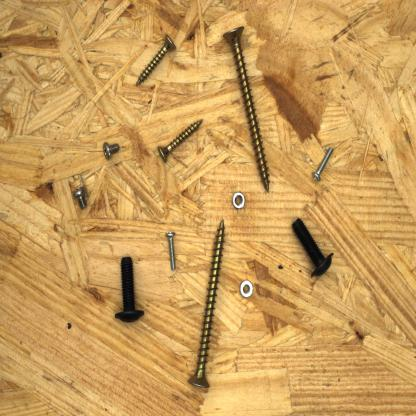screw: (222, 22, 272, 196), (185, 214, 228, 390), (290, 213, 336, 283), (110, 253, 150, 326), (133, 31, 180, 90), (156, 115, 205, 166), (310, 144, 335, 185), (161, 228, 181, 274), (69, 183, 91, 213), (98, 139, 122, 163)
